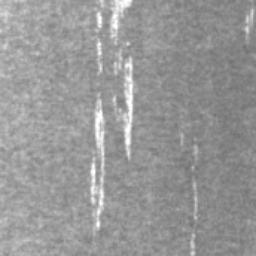White rust: (112, 48, 135, 162), (90, 92, 106, 228), (107, 0, 133, 47), (192, 175, 200, 221), (244, 7, 255, 36), (191, 136, 200, 171), (96, 38, 103, 77), (189, 233, 197, 256), (97, 10, 102, 31), (179, 131, 185, 147)
